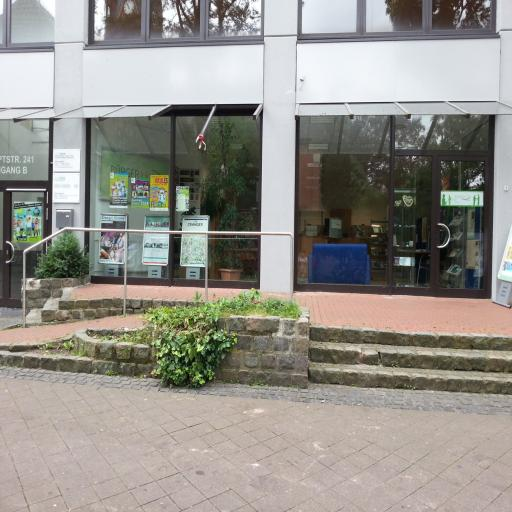ramp: (0, 314, 146, 346)
stairs: (307, 323, 512, 399), (25, 291, 69, 323)
